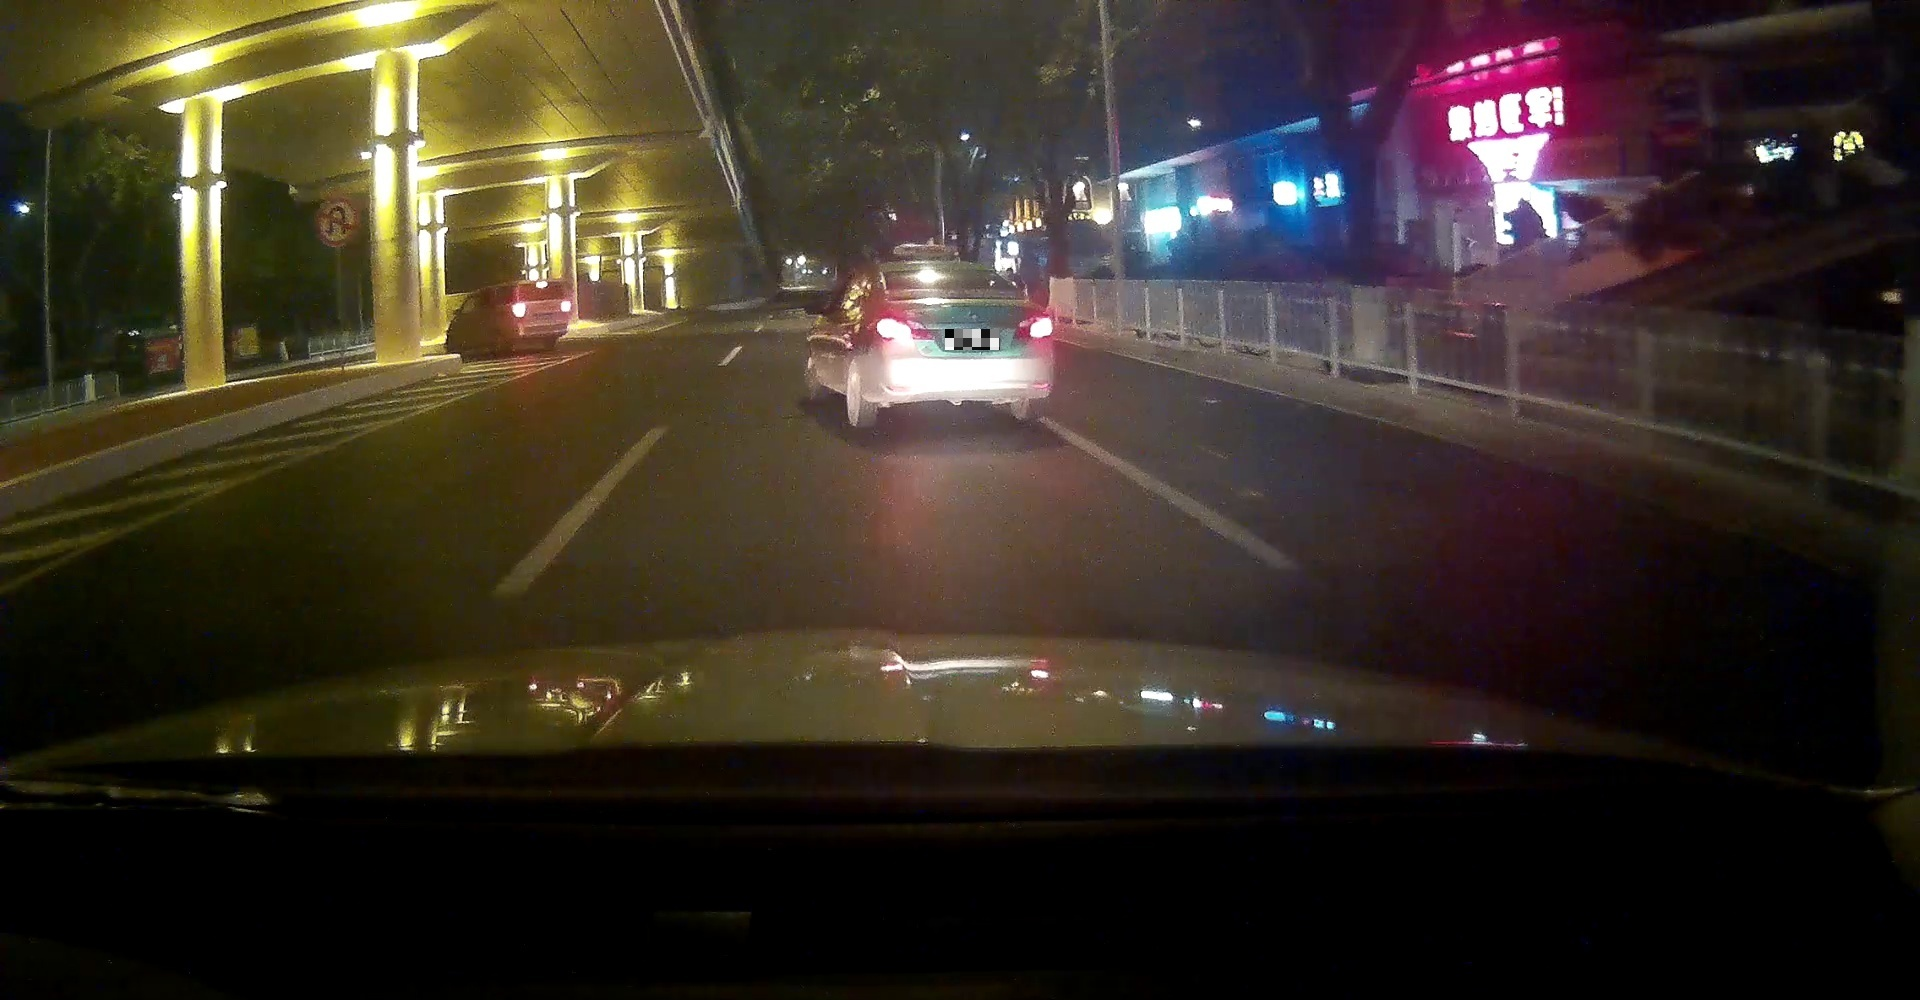L_light: (872, 313, 935, 341), (510, 302, 526, 319)
R_light: (1015, 312, 1055, 341), (560, 299, 571, 312)
T_light: (943, 269, 971, 275), (535, 282, 549, 289)
night-brake: (510, 278, 573, 349)
night-left: (867, 260, 1057, 426)
plate_1: (945, 329, 1001, 350)
